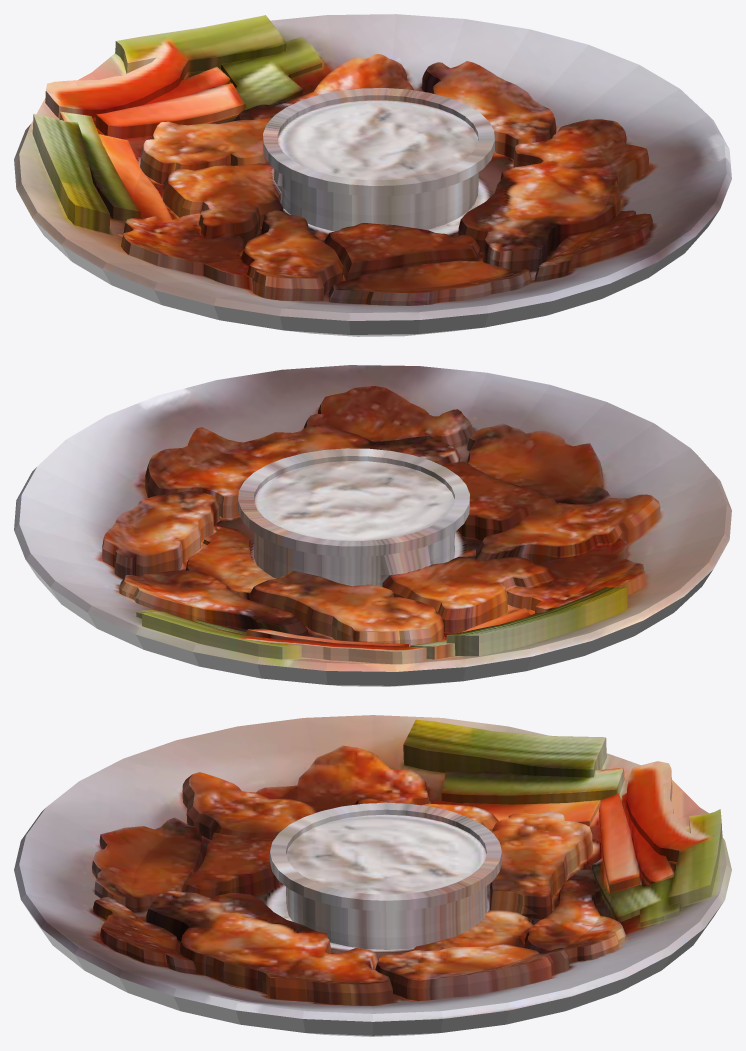
File: platoComidaScale.glb
The picture shows the model from 3 angles, top to bottom: view 1: azimuth 30°, elevation 25°; view 2: azimuth 150°, elevation 25°; view 3: azimuth 270°, elevation 25°; orthographic projection.
Visible parts, largest first — view 1: Cube; view 2: Cube; view 3: Cube.
Part boxes in pixels (left/top/right/bottom): Cube: left=14, top=14, right=731, bottom=336; Cube: left=14, top=365, right=731, bottom=686; Cube: left=14, top=715, right=731, bottom=1036.
Bounding box in the file's own units: 0.268 × 0.0371 × 0.268.
2 materials, 1 textured.
